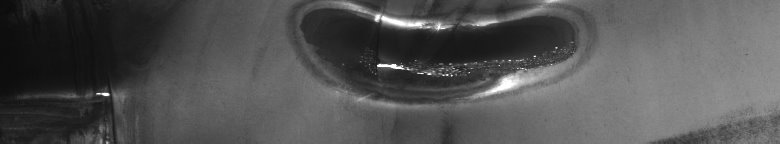ke: (290, 4, 584, 112)
